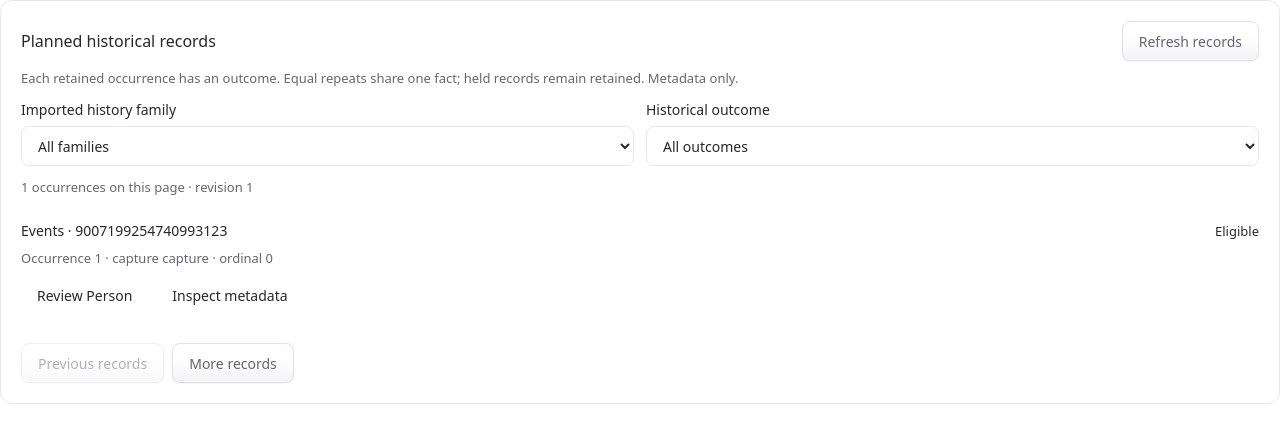
historical import record pages › rejects a changed revision on continuation and scopes new filters without silently appending
The width and height of the screenshot is (1280, 421).
Click the button "More records" at x=233, y=363, box [172,343,294,383]
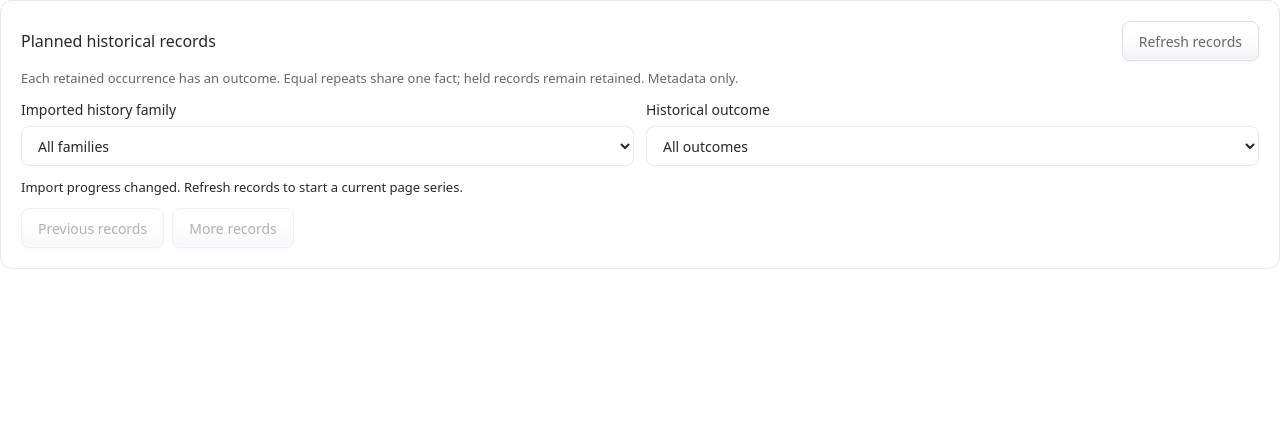
Now the text "Import progress changed" is shown, box [21,178,463,196]
Select "Calls" in the dropdown labelled "Imported history family" at x=328, y=146, box [21,126,634,166]
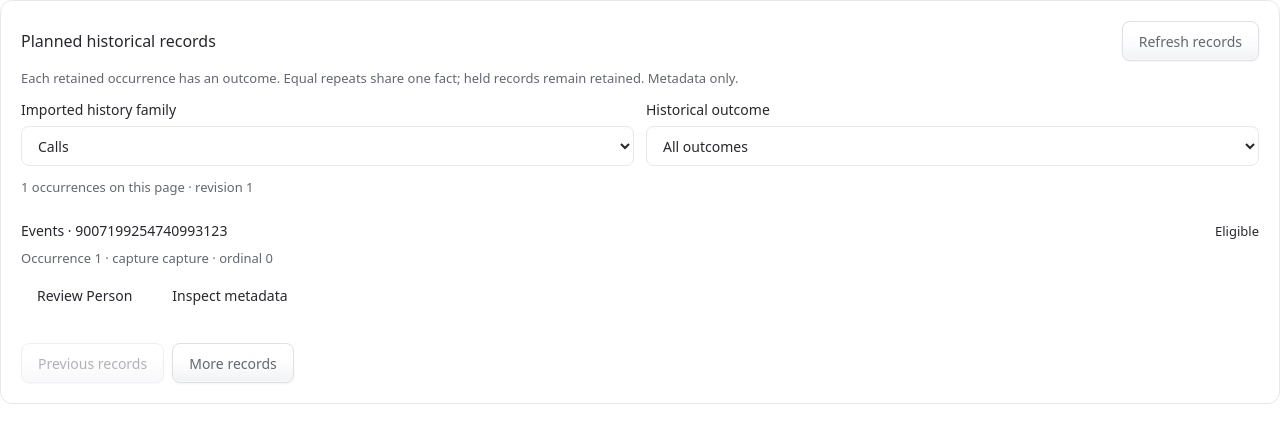
Now the text "1 occurrences on this page" is shown, box [21,178,254,196]
